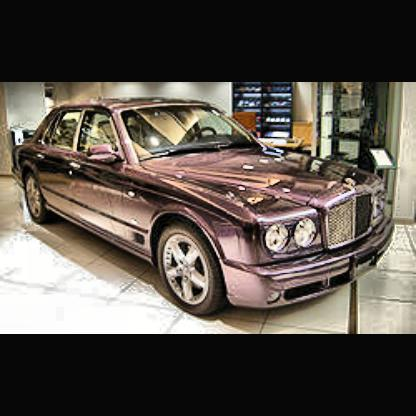Bentley Arnage Sedan 2009: (9, 95, 401, 316)
